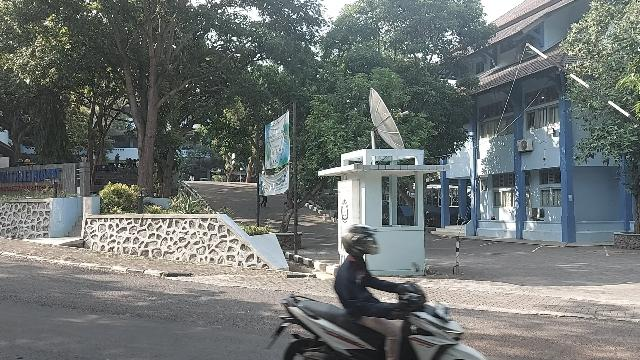helm: (343, 226, 379, 257)
motor: (265, 283, 490, 360)
